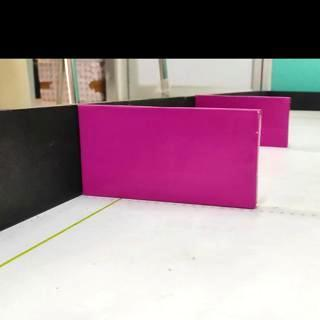xparking: (82, 105, 258, 208), (266, 96, 286, 148)
